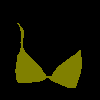reggiseno: (15, 23, 82, 88)
